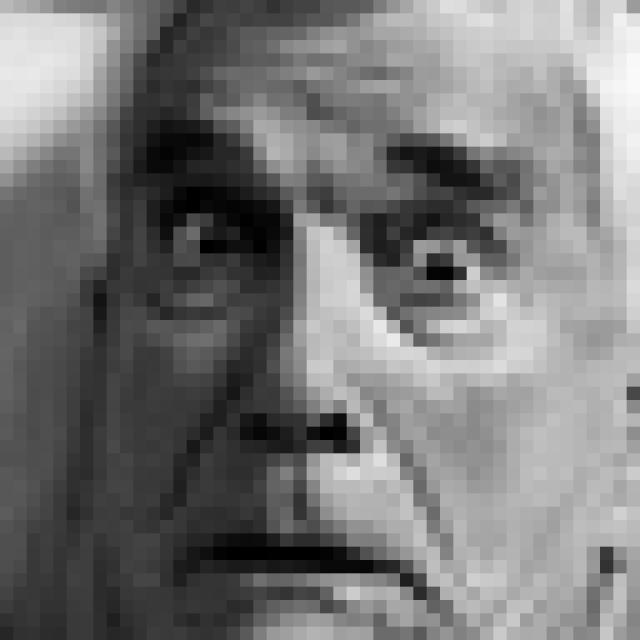fear: (121, 75, 564, 640)
